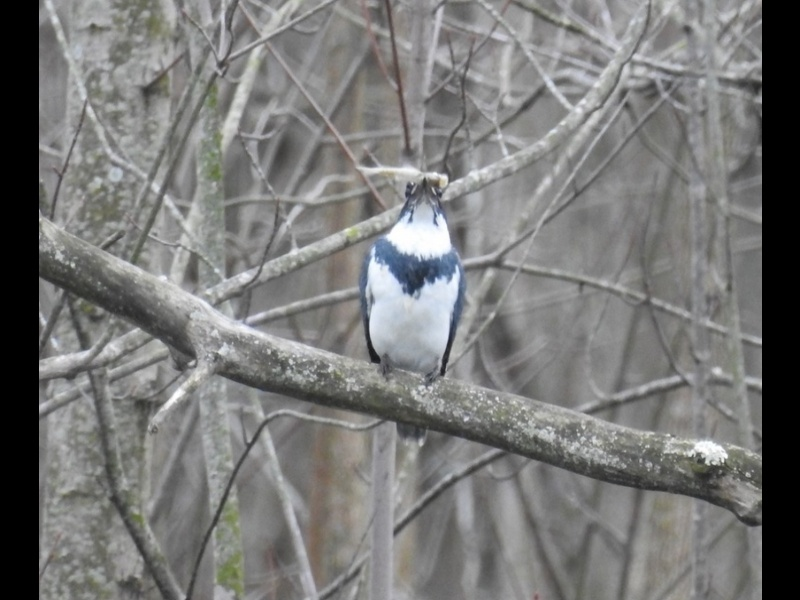kingfisher: (356, 158, 474, 387)
